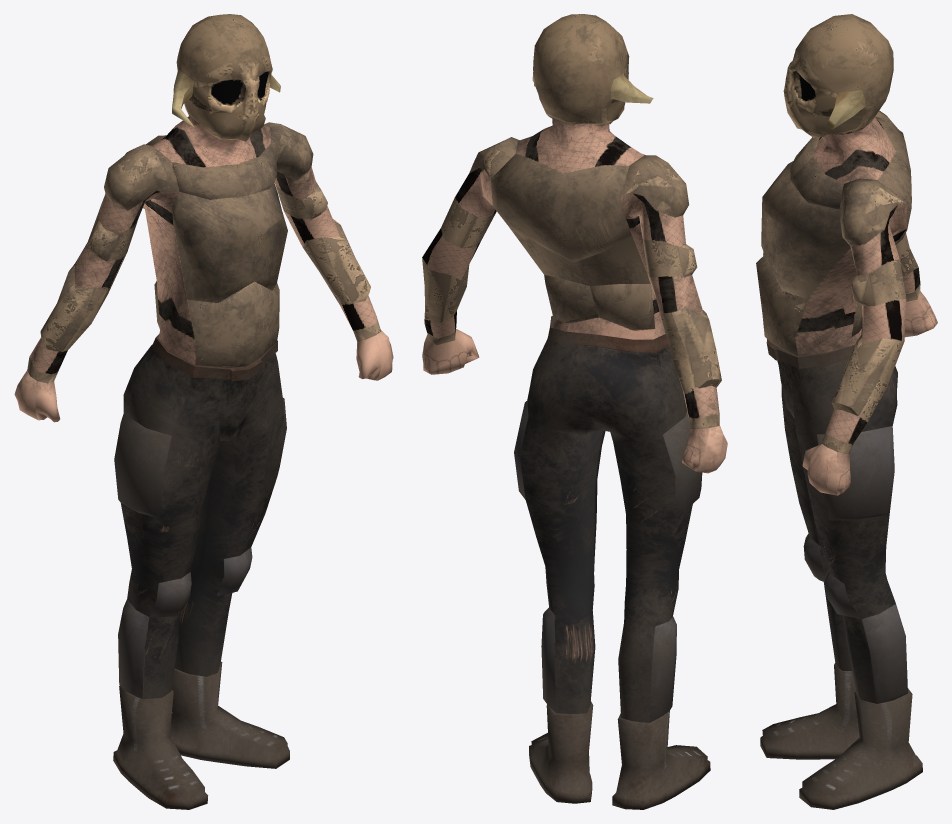
File: Anim_interruptor_npc1.0035.obj
The picture shows the model from 3 angles, left to right: view 1: azimuth 30°, elevation 25°; view 2: azimuth 150°, elevation 25°; view 3: azimuth 270°, elevation 25°; orthographic projection. The views are drawn at different scales.
Visible parts, largest first — view 1: NPC2; view 2: NPC2; view 3: NPC2.
Boxes of the visible parts, x1,y1,x2,y2 form: NPC2: (14, 14, 393, 809); NPC2: (422, 14, 727, 809); NPC2: (756, 14, 937, 809).
Size of the model in its own units: 4.5 by 9.62 by 2.07.
